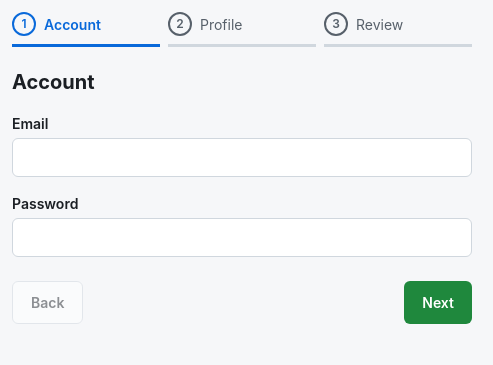
it: keeps entered data when going Back and forward again
Type "ada@example.com" into the field labelled "Email" at (242, 158), box x1=12 y1=138 x2=472 y2=177
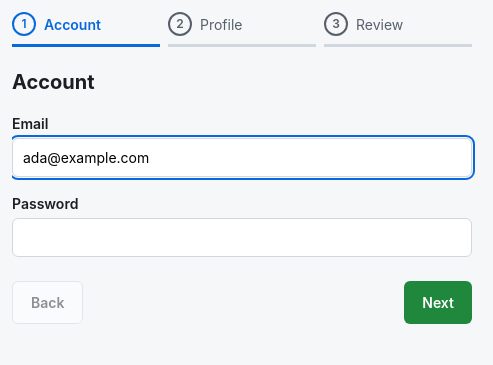
Type "supersecret" into the password field labelled "Password" at (242, 238), box x1=12 y1=218 x2=472 y2=257
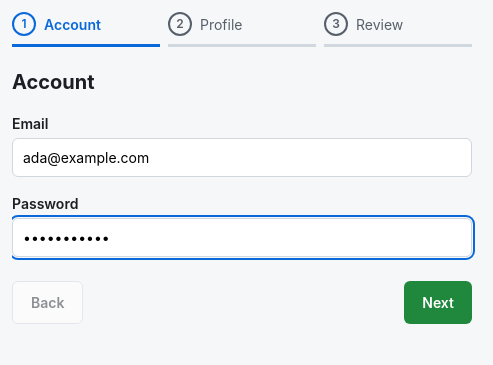
Click the button "Next" at (438, 302), box x1=404 y1=281 x2=472 y2=324
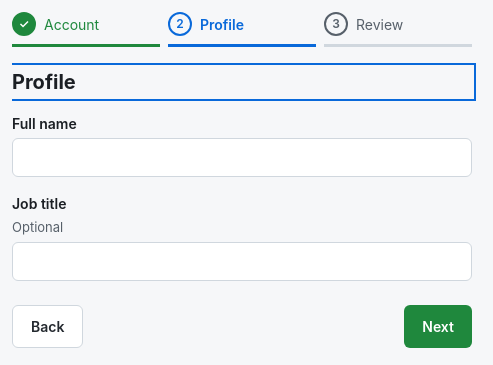
Type "Grace Hopper" into the field labelled "Full name" at (242, 158), box x1=12 y1=138 x2=472 y2=177
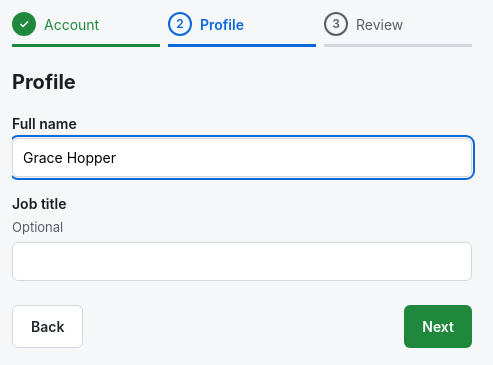
Click the button "Back" at (48, 326), box x1=12 y1=304 x2=83 y2=348
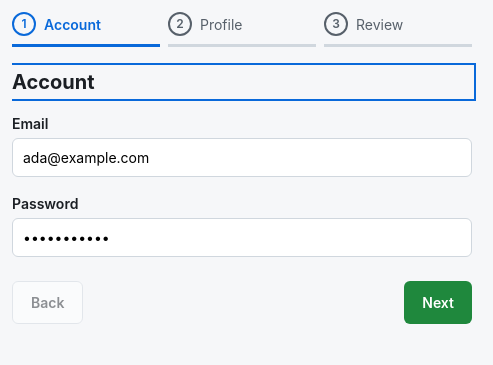
expect the heading "Account" is shown: met, box x1=12 y1=70 x2=94 y2=94
expect the field labelled "Email" holds "ada@example.com": met, box x1=12 y1=138 x2=472 y2=177
expect the password field labelled "Password" holds "supersecret": met, box x1=12 y1=218 x2=472 y2=257
Click the button "Next" at (438, 302), box x1=404 y1=281 x2=472 y2=324
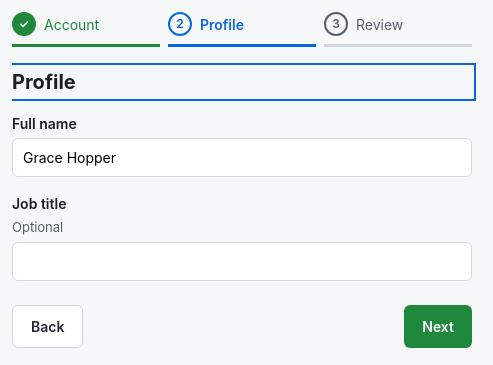
expect the field labelled "Full name" holds "Grace Hopper": met, box x1=12 y1=138 x2=472 y2=177
